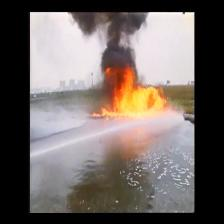fire: (93, 66, 171, 117)
